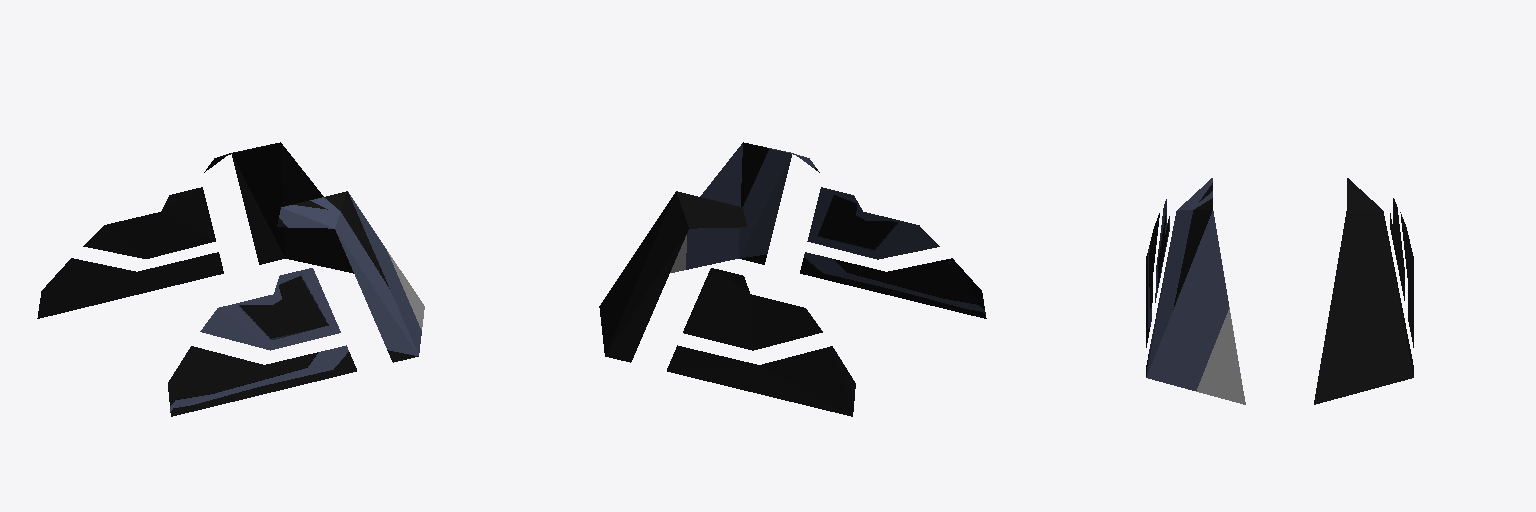
The picture shows the model from 3 angles: view 1: azimuth 30°, elevation 25°; view 2: azimuth 150°, elevation 25°; view 3: azimuth 270°, elevation 25°; orthographic projection.
Visible parts, largest first — view 1: baseOnShell_立方体.004; view 2: baseOnShell_立方体.004; view 3: baseOnShell_立方体.004.
Boxes of the visible parts, x1=… form: baseOnShell_立方体.004: x1=37, y1=142, x2=424, y2=416; baseOnShell_立方体.004: x1=599, y1=142, x2=986, y2=416; baseOnShell_立方体.004: x1=1146, y1=178, x2=1413, y2=404.
Bounding box in the file's own units: 0.8478 × 0.4004 × 0.6459.
Materials: 1 (1 with a texture image).